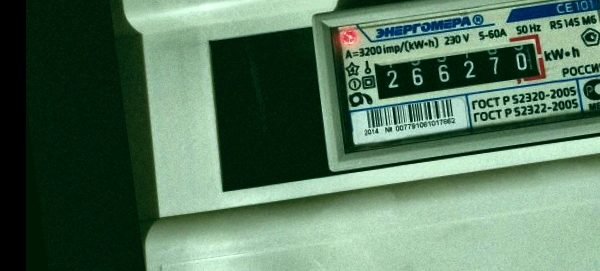0: (514, 49, 529, 71)
2: (384, 67, 402, 89), (462, 57, 478, 79)
6: (410, 64, 426, 87), (437, 62, 452, 83)
7: (487, 54, 502, 75)
screen: (364, 30, 553, 106)
